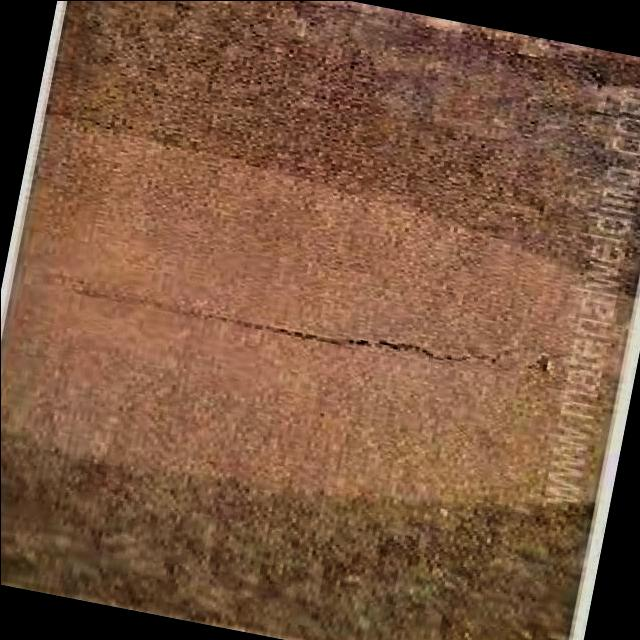defect: (62, 284, 529, 367)
